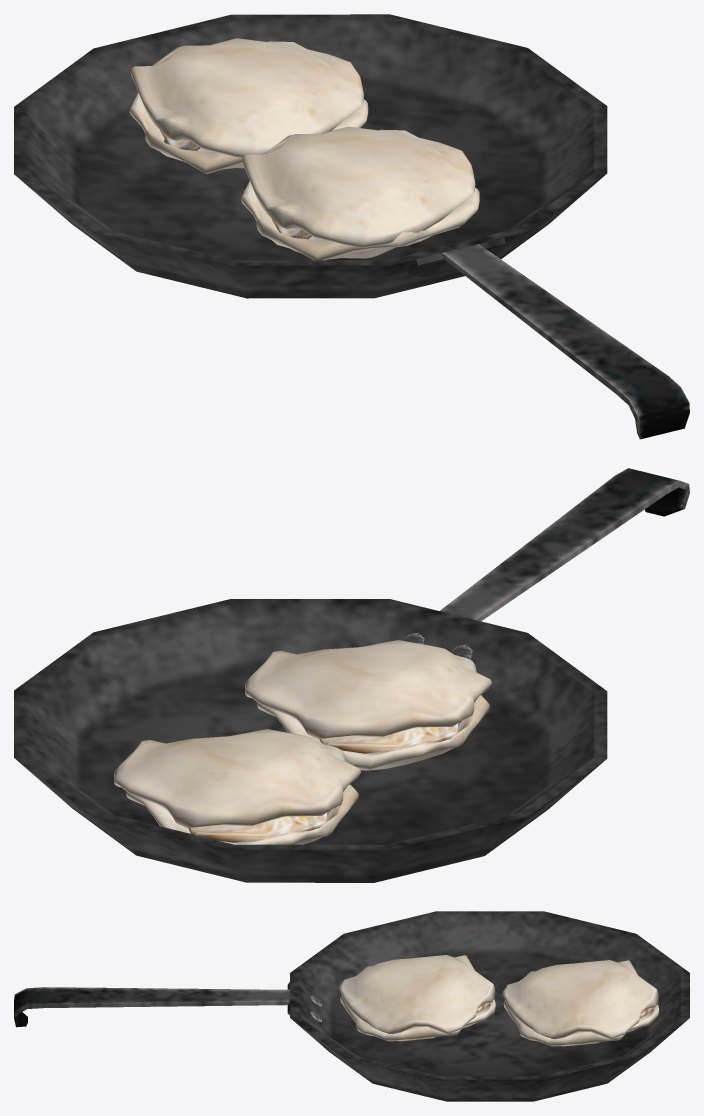
Rendered from AL_GorditasForged.fbx.
3 renders of one model, top to bottom at view 1: azimuth 30°, elevation 25°; view 2: azimuth 150°, elevation 25°; view 3: azimuth 270°, elevation 25°, orthographic. The views are drawn at different scales.
Visible parts, largest first — view 1: Circle.003; view 2: Circle.003; view 3: Circle.003.
Part boxes in pixels (x1,y1,x2,y2): Circle.003: [14, 14, 689, 439]; Circle.003: [14, 468, 689, 882]; Circle.003: [14, 911, 689, 1101].
Size of the model in its own units: 0.7308 by 0.0707 by 0.4323.
